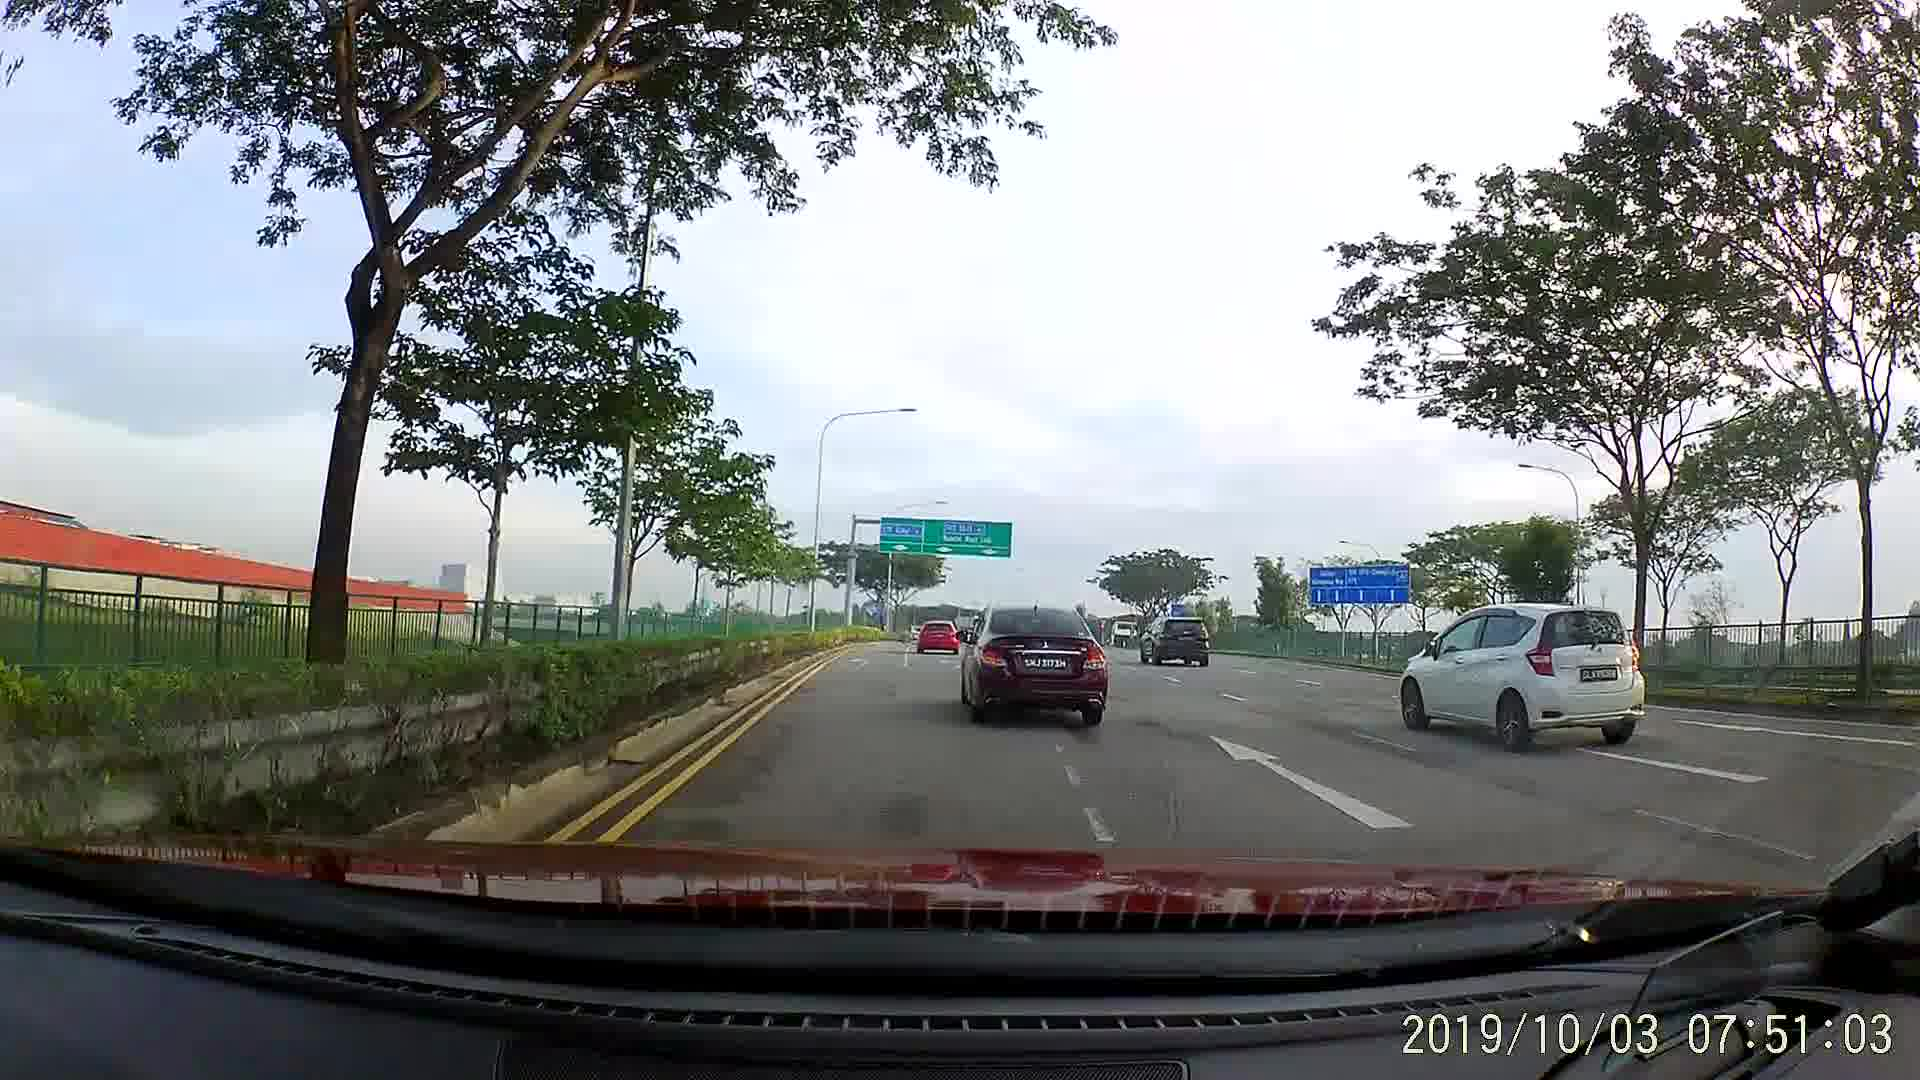car: (1390, 603, 1646, 746), (960, 603, 1106, 729), (1139, 615, 1211, 669), (914, 618, 960, 657)
